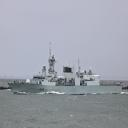Fragata: (9, 41, 124, 96)
